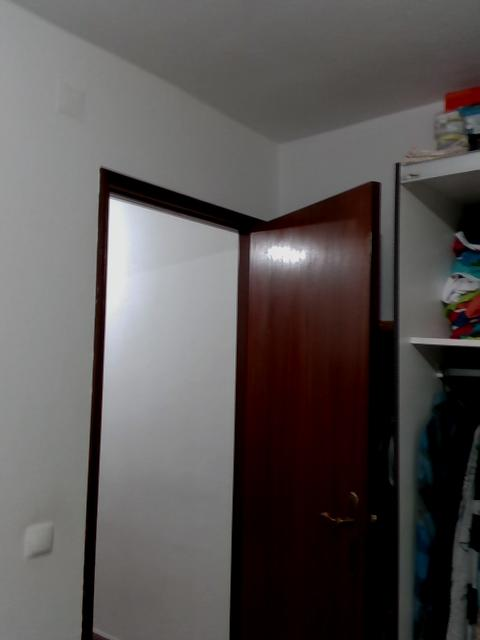open_door: (82, 165, 287, 639)
